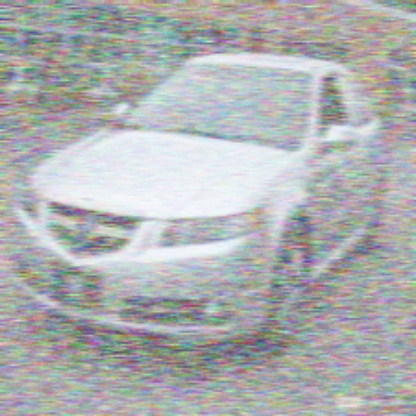Vehicle: (11, 51, 388, 353)
